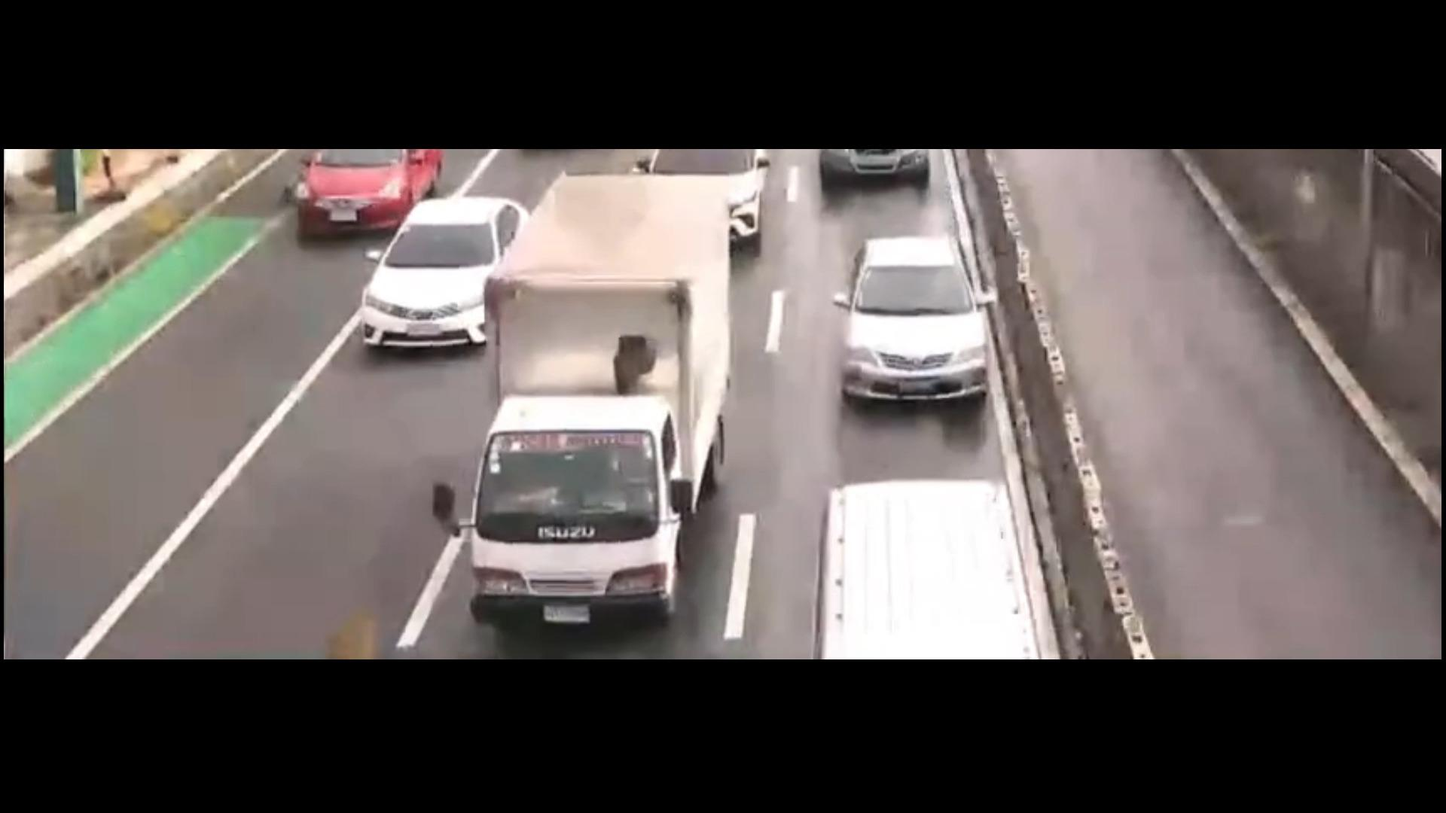Sedan: (838, 231, 990, 403), (363, 199, 520, 348), (290, 147, 435, 243)
Truck: (474, 171, 729, 625)
Van: (798, 474, 1051, 659)
